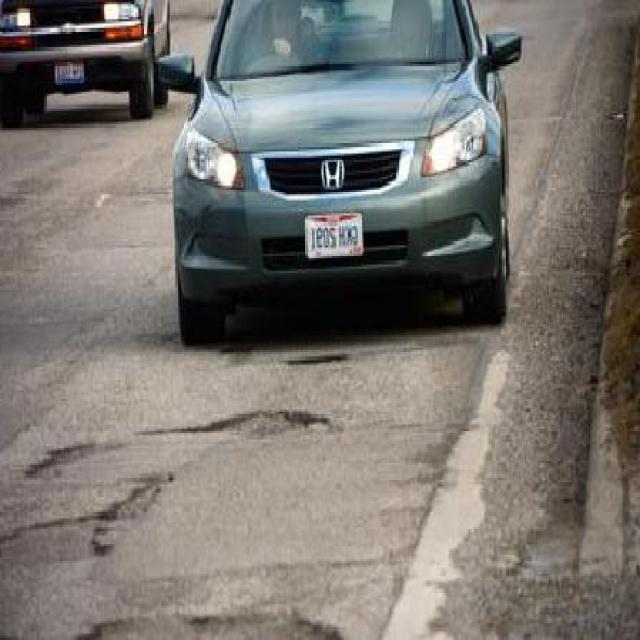buraco: (86, 605, 341, 640), (78, 608, 350, 638), (212, 406, 335, 446), (180, 411, 326, 440)
